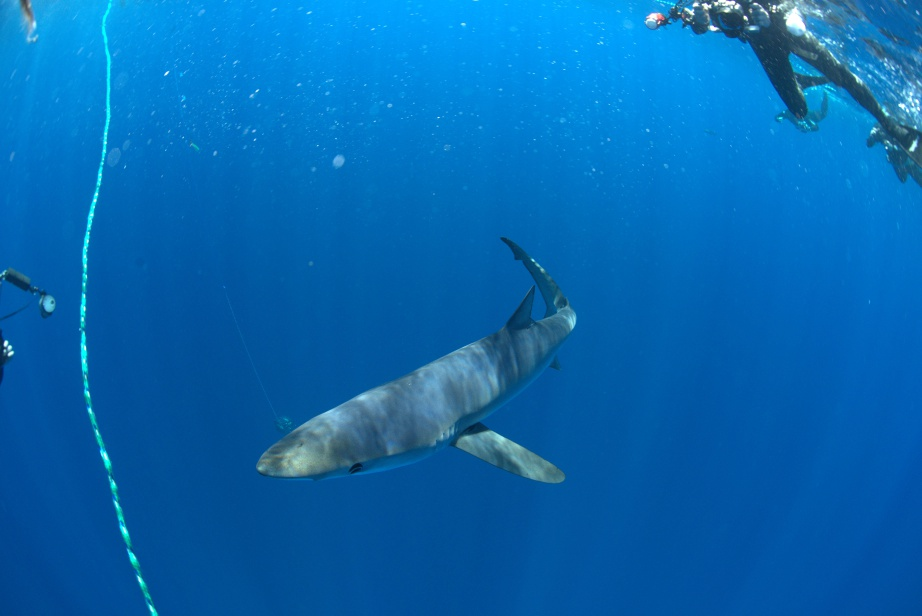Azul: (244, 229, 579, 498)
